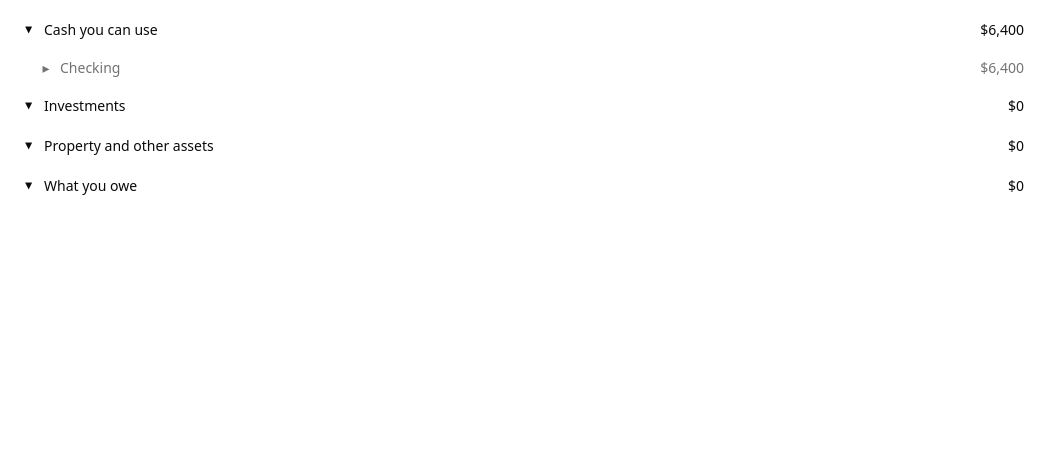
Test: AccountsTree › clicking an account leaf opens the inline edit panel
Click the text "Checking" at (80, 68), box [40,58,120,78]
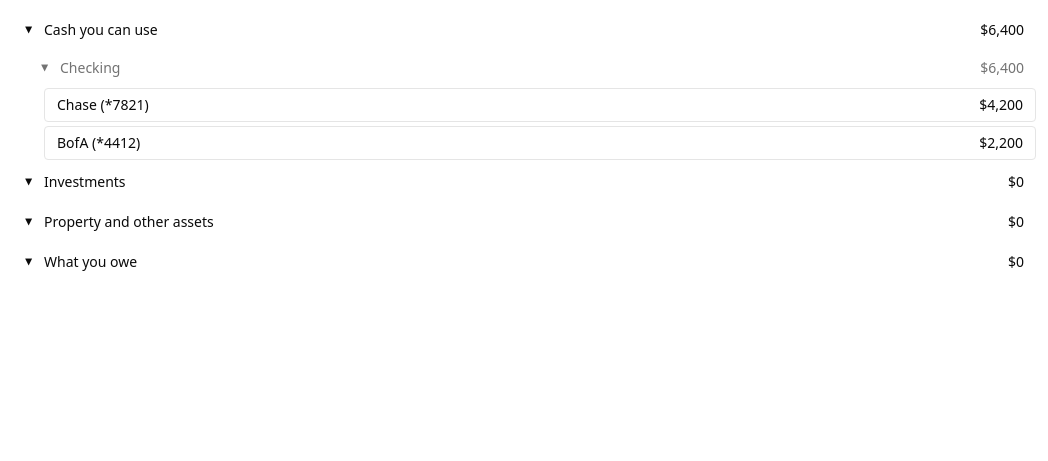
Click the text "Chase (*7821)" at (103, 105), box [57,95,149,115]
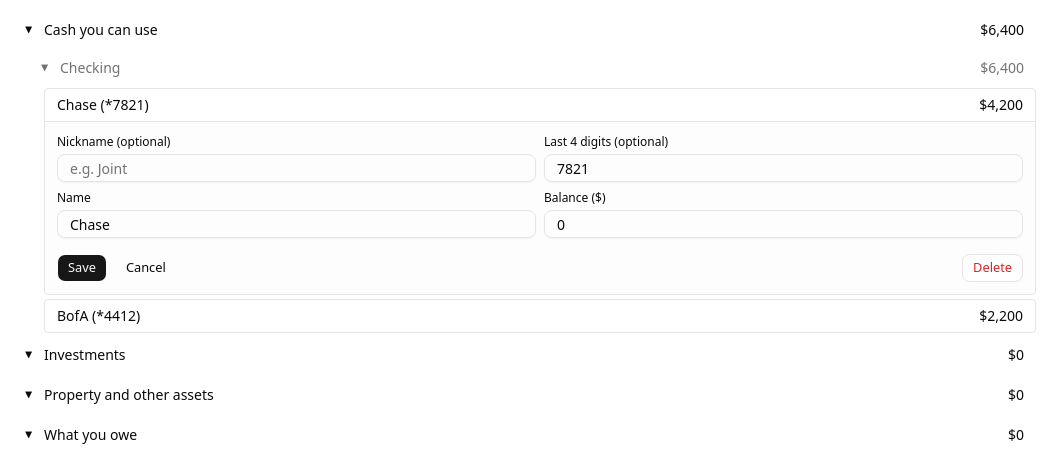
Check: the field labelled "Nickname (optional)" is shown, box [57,154,536,182]
